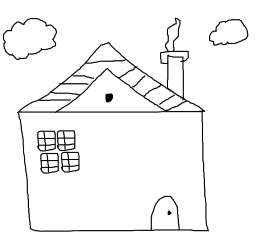closed_window: (39, 152, 59, 174), (56, 129, 75, 152), (61, 151, 80, 173), (38, 131, 55, 150)
clouds: (2, 18, 57, 59), (208, 18, 249, 45)
door: (145, 190, 188, 236)
roof: (18, 39, 203, 118)
smoking_chimney: (151, 12, 195, 100)
wall: (17, 105, 214, 236)
